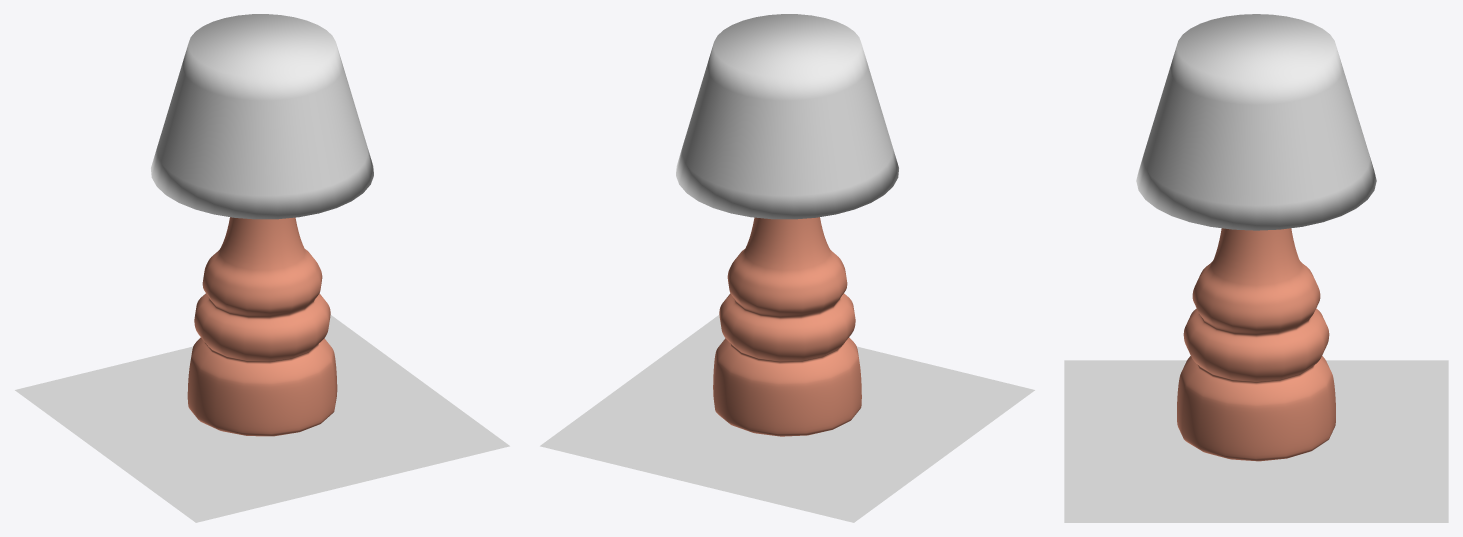
The model's file is Abajur.fbx.
The picture shows the model from 3 angles, left to right: view 1: azimuth 30°, elevation 25°; view 2: azimuth 150°, elevation 25°; view 3: azimuth 270°, elevation 25°; orthographic projection. The views are drawn at different scales.
Parts seen in each view (by area): view 1: Plane, Cylinder, Line; view 2: Plane, Cylinder, Line; view 3: Plane, Cylinder, Line.
Part boxes in pixels (box(x1,y1,x2,y2)): Plane: box(15, 315, 509, 522); Cylinder: box(151, 14, 373, 219); Line: box(187, 217, 337, 436); Plane: box(540, 315, 1034, 522); Cylinder: box(676, 14, 898, 219); Line: box(713, 217, 861, 436); Plane: box(1064, 360, 1448, 522); Cylinder: box(1136, 14, 1376, 230); Line: box(1177, 228, 1335, 461).
Size of the model in its own units: 200 by 226 by 200.
